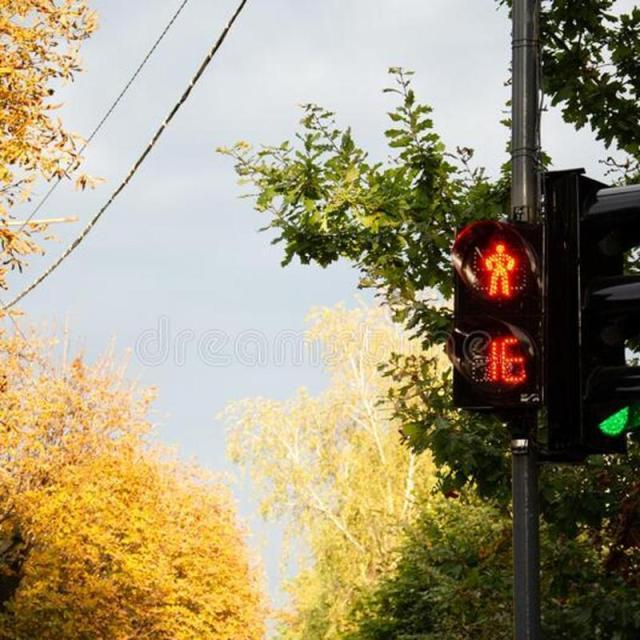red-crossing: (473, 230, 522, 303)
